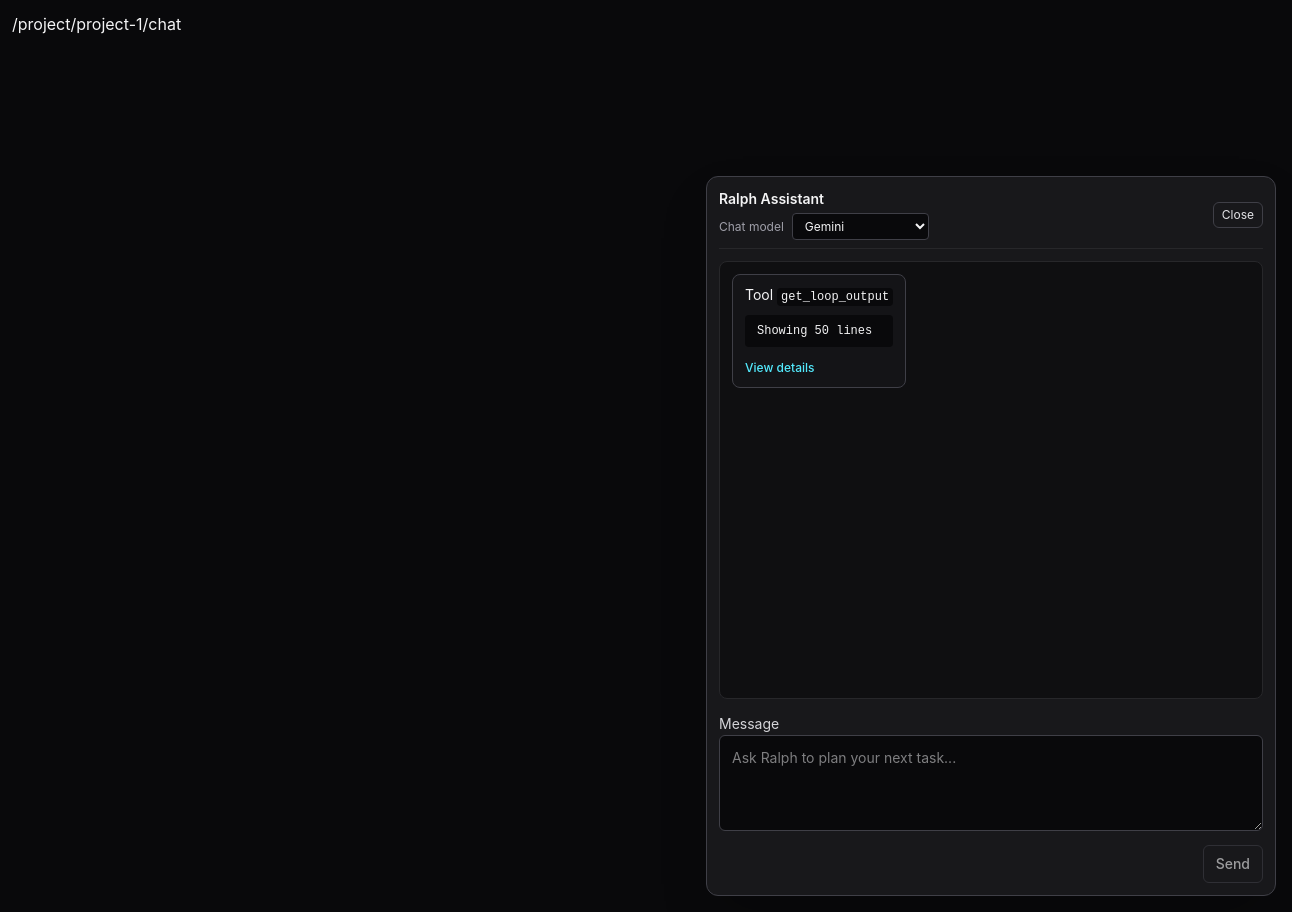
ChatOverlay › renders deep-link for tool results and closes overlay on click after navigating
What coordinates should you click on to do the following:
click the link "View details"
I would click on:
 (780, 368)
Its box is [745, 360, 814, 375].
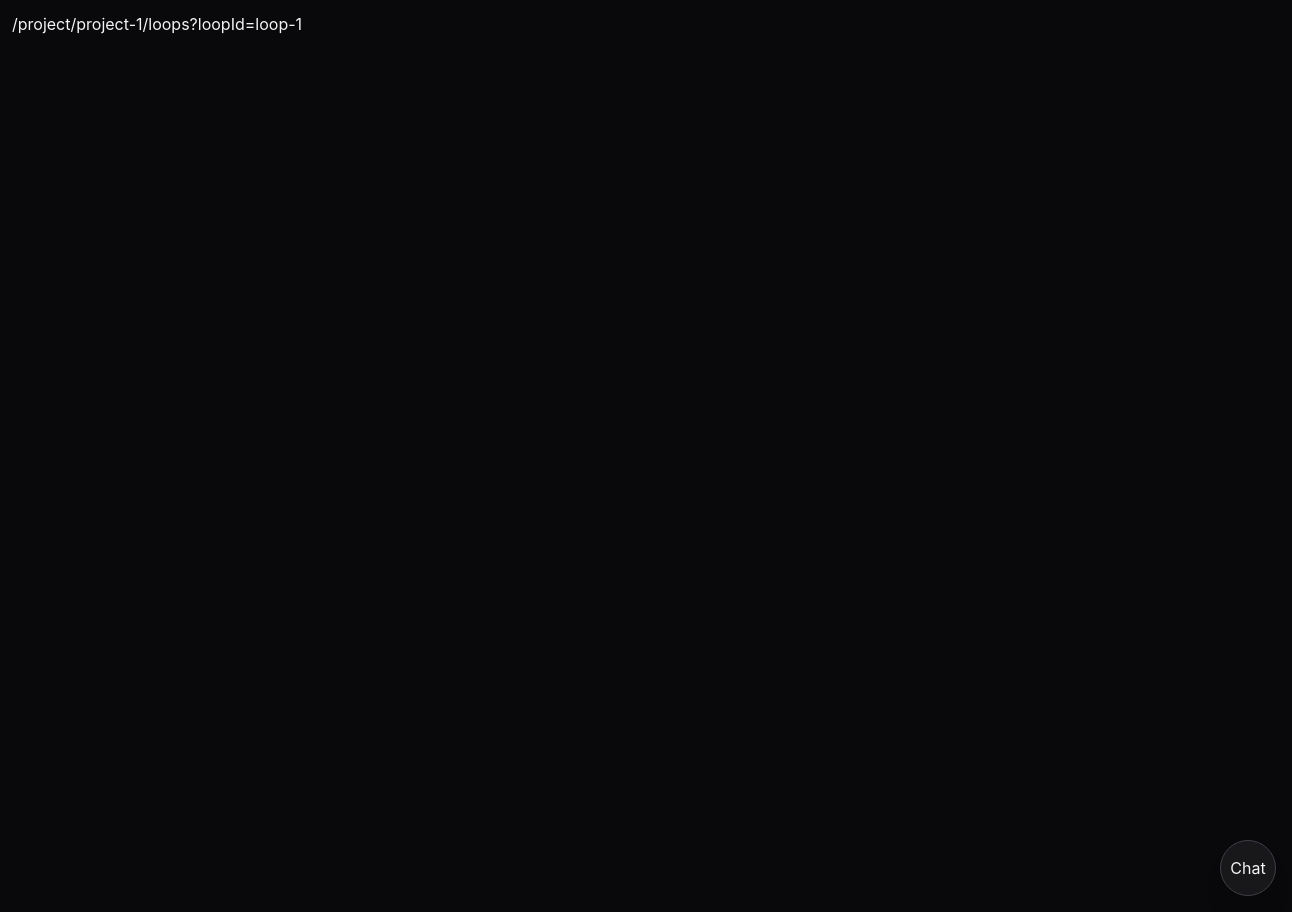
expect the text with test id "location-path" reads "/project/project-1/loops?loopId=loop-1": met, box [12, 14, 302, 34]
